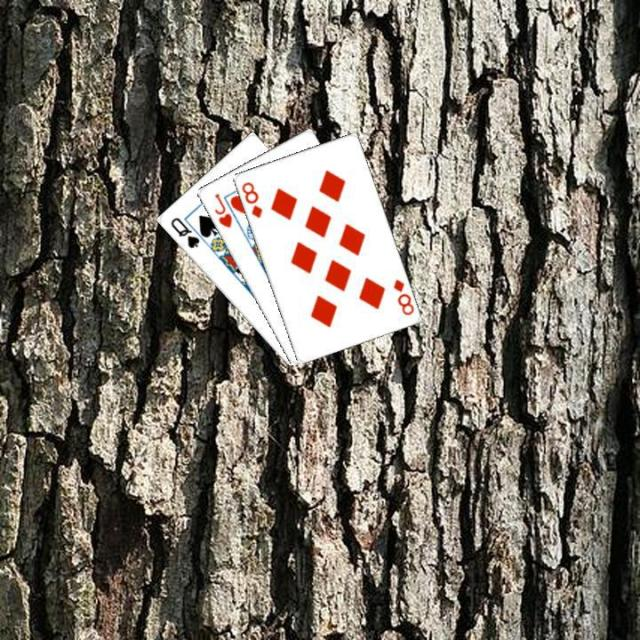8D: (237, 178, 264, 220), (389, 275, 415, 317)
JH: (210, 190, 234, 230)
QS: (166, 213, 201, 250)
